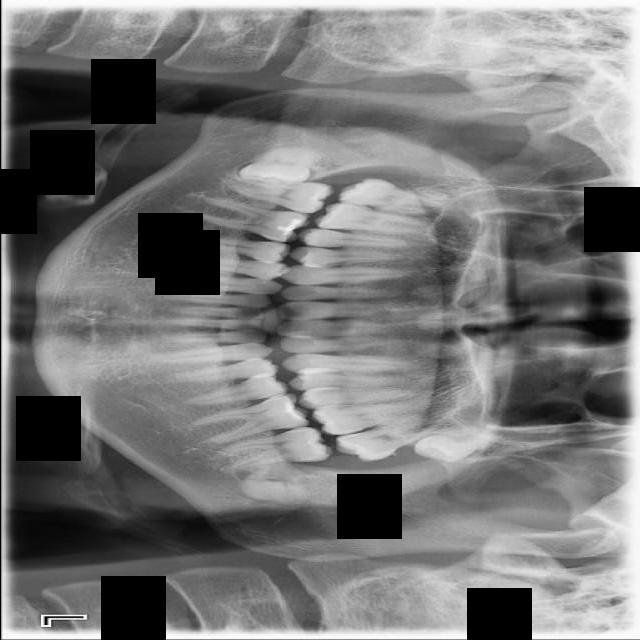52: (254, 209, 310, 243), (283, 457, 294, 462)
73: (64, 594, 78, 600)
BioHorizons Implant: (331, 404, 459, 471)
BioLife Implant: (410, 412, 505, 474)
Biomet 3i Implant: (237, 451, 315, 510)
Blue Sky Bio Implant: (211, 423, 334, 476)
Caries: (336, 171, 456, 224)
Implant: (222, 170, 334, 217)
Keystone Dental Implant: (236, 144, 310, 187)
